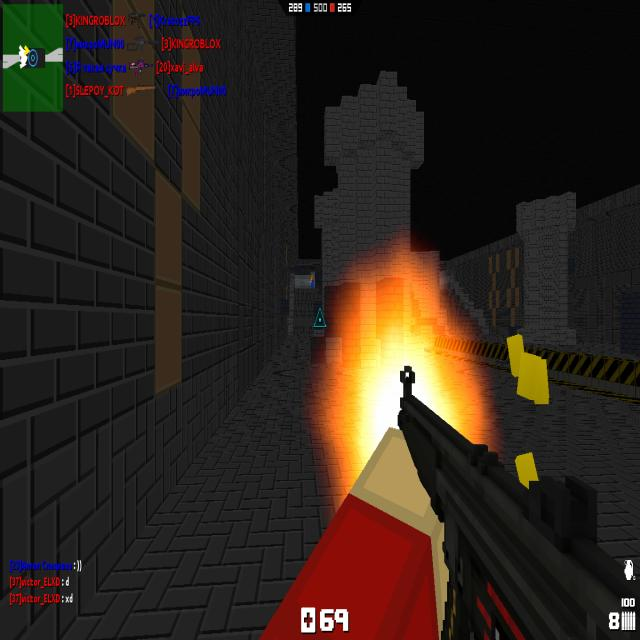enemy: (310, 274, 314, 289)
